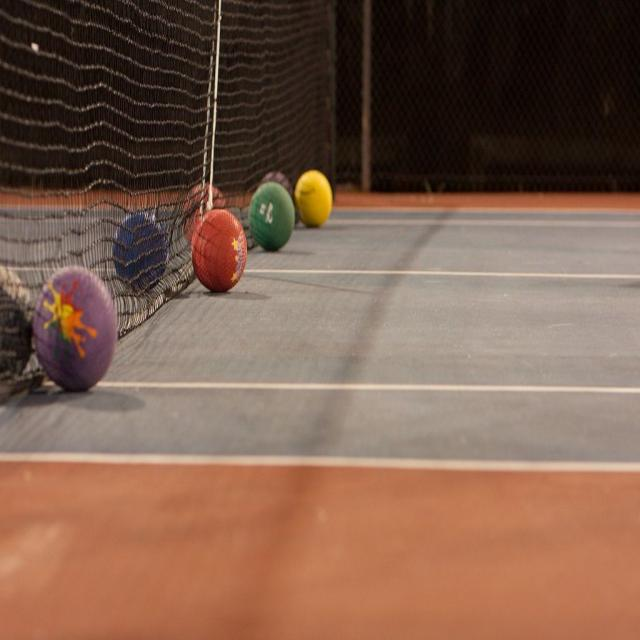Tennis ball: (36, 262, 118, 390), (191, 208, 248, 294), (116, 213, 172, 300), (0, 266, 34, 382), (250, 185, 296, 254), (294, 166, 332, 227), (186, 182, 226, 228), (264, 168, 290, 191)
